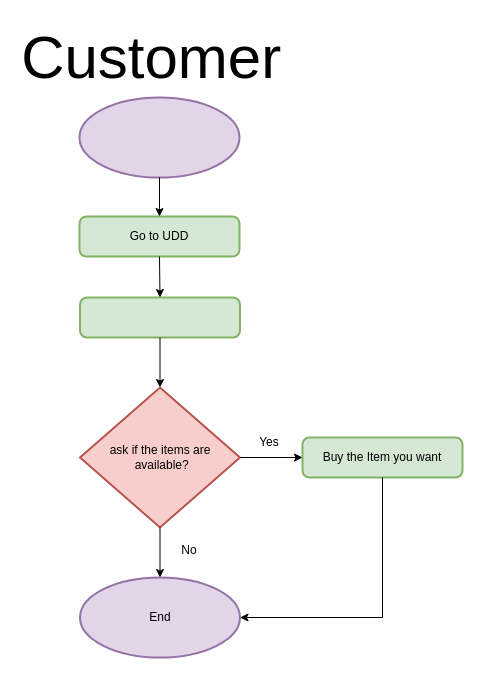
Image size: 480x675. Some labels were removed from this diagram. The centre of each missing label's shape, as x and y in pixels:
"Go to window besides Kuwago" goes at point 159,317.
"Start" goes at point 159,137.
